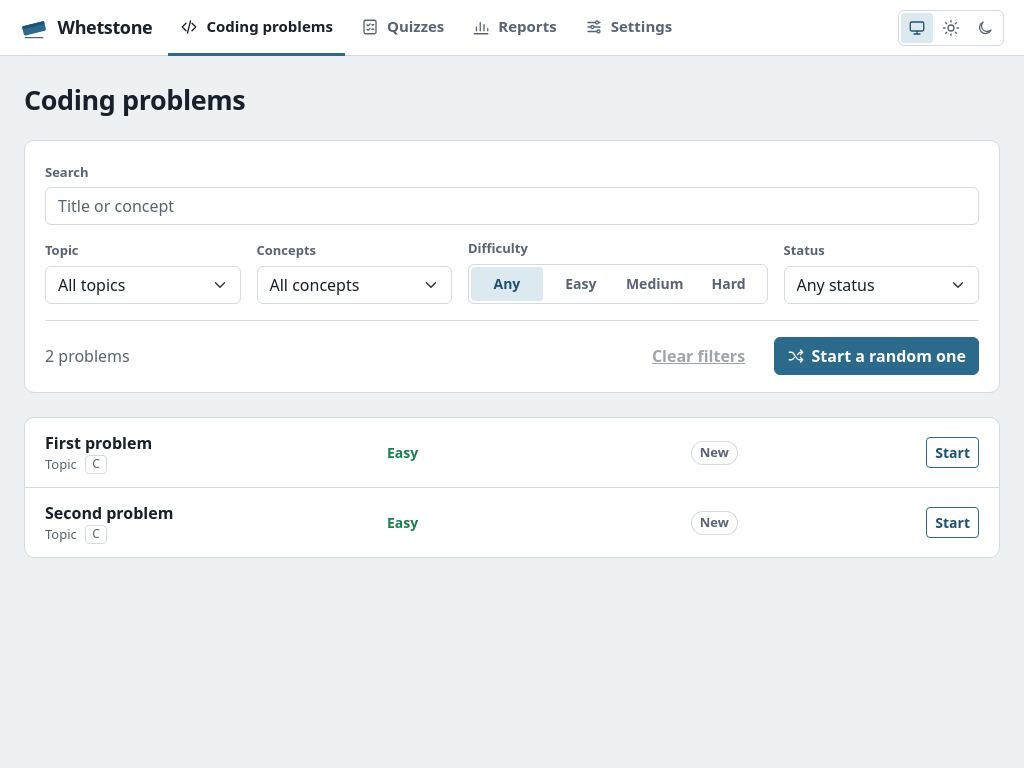
Test: App › scores a grade that runs out of time as 0
This screenshot has width=1024, height=768.
What coordinates should you click on to do the following:
click the button with aria-label "Start First problem"
I would click on:
 (953, 453)
Its box is [926, 437, 979, 468].
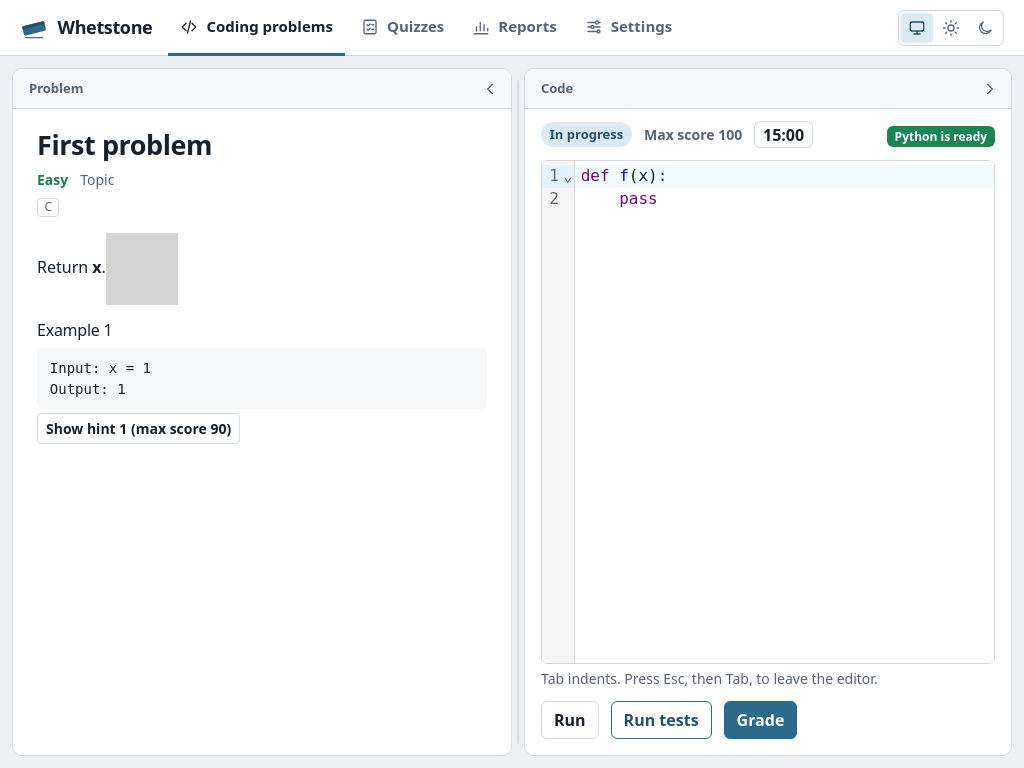
What coordinates should you click on to do the following:
click the button "Grade"
I would click on:
 (760, 720)
Its box is [724, 701, 797, 739].
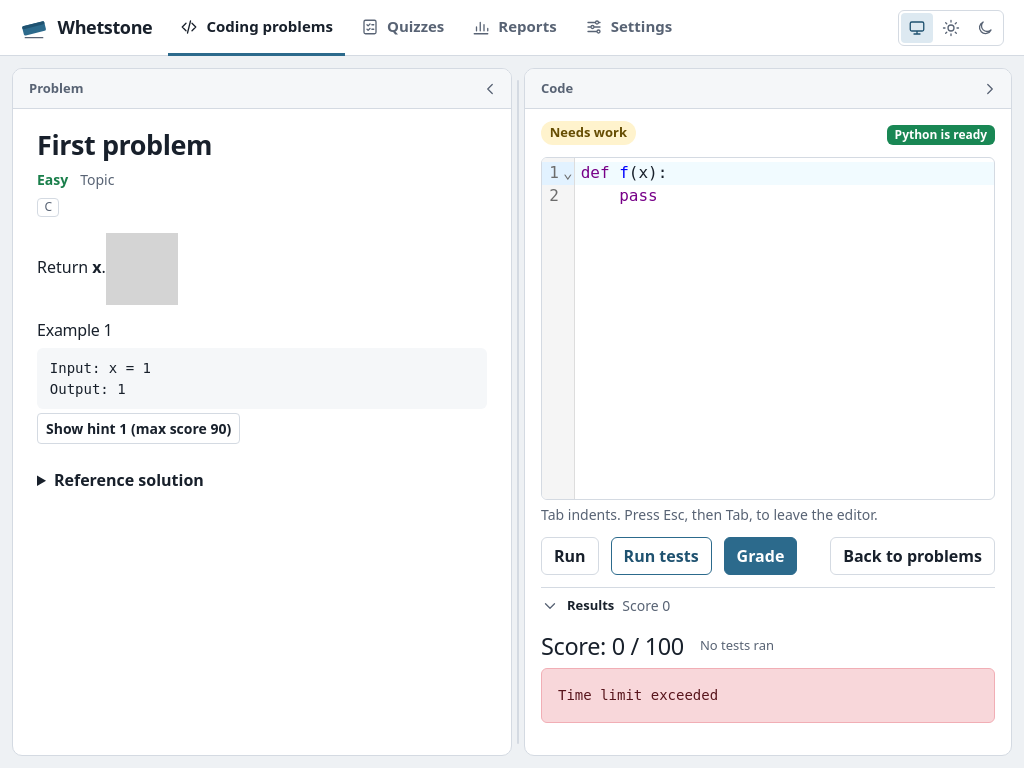
expect the element named "Grade" shows "Score: 0 / 100": met, box [541, 632, 995, 723]
expect the element named "Grade" shows "Time limit exceeded": met, box [558, 687, 718, 703]
